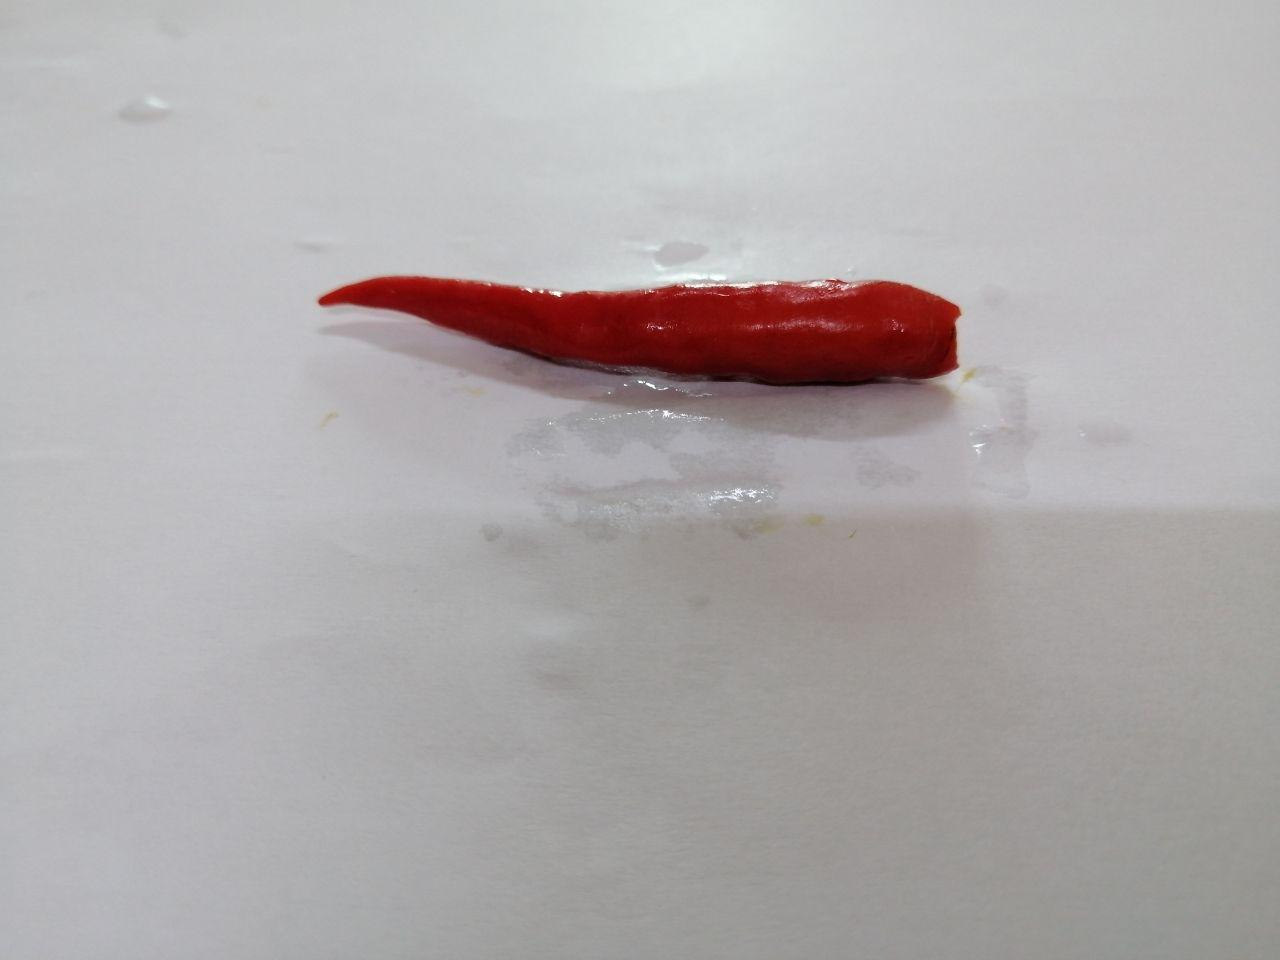lada merah: (293, 247, 994, 431)
